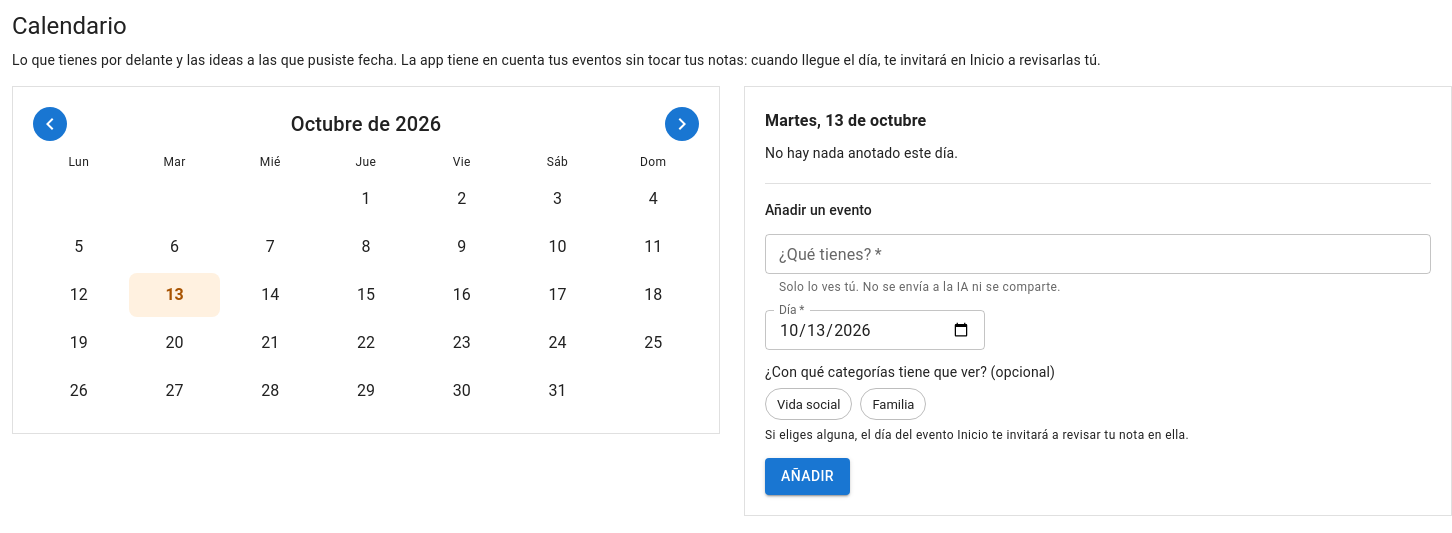
Test case: CalendarPage (RF-48) › se pasa de mes con las flechas; sin botón 'Hoy' (hoy ya se ve en naranja)
Expected: the heading "octubre de 2026" is shown, [291,112,441,136]
Click the button named "mes siguiente": (682, 124) [665,107,699,141]
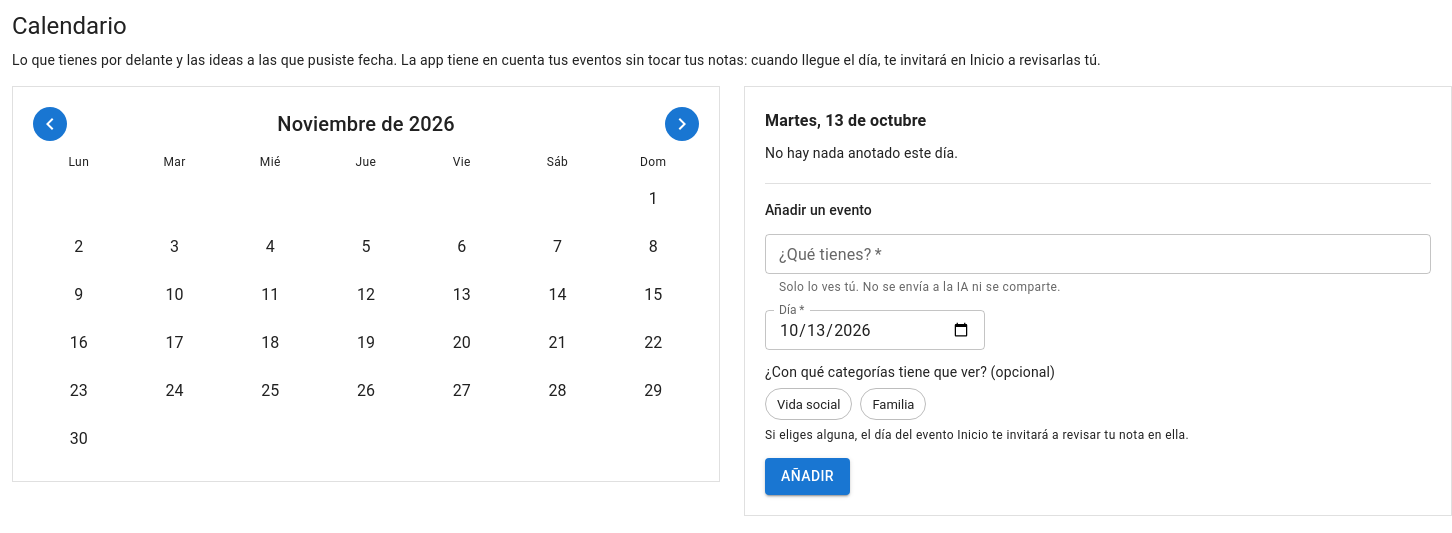
Now the heading "noviembre de 2026" is shown, box [277,112,455,136]
Click the button named "mes anterior": (50, 124) [33,107,67,141]
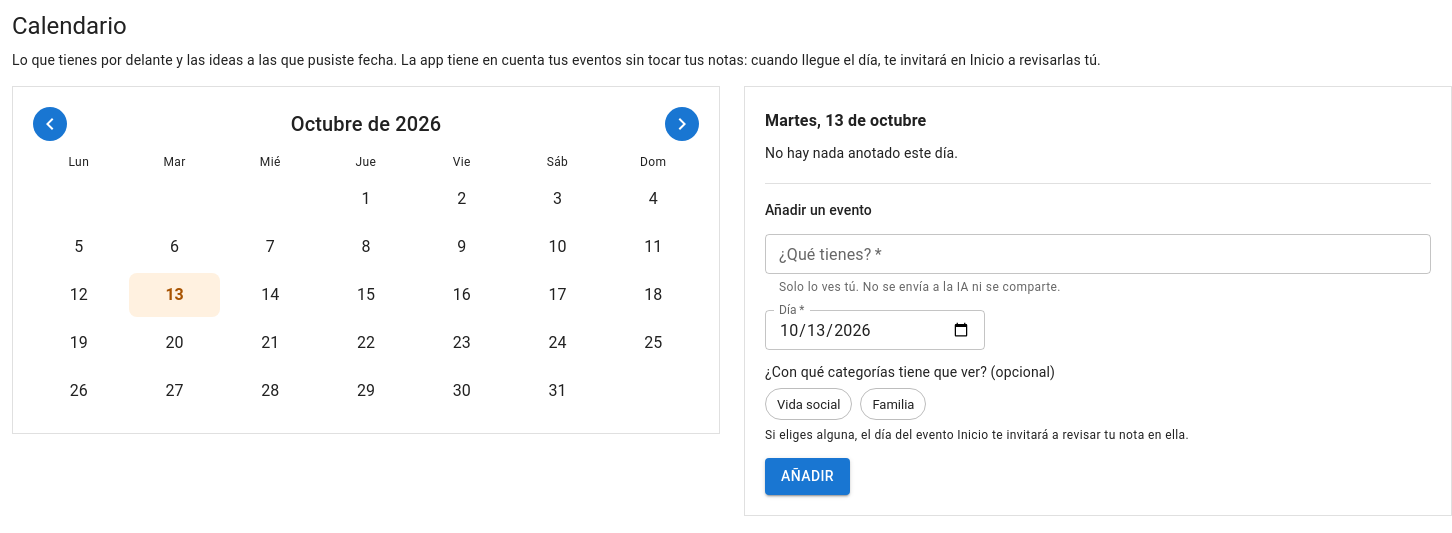
Now the heading "octubre de 2026" is shown, box [291,112,441,136]
